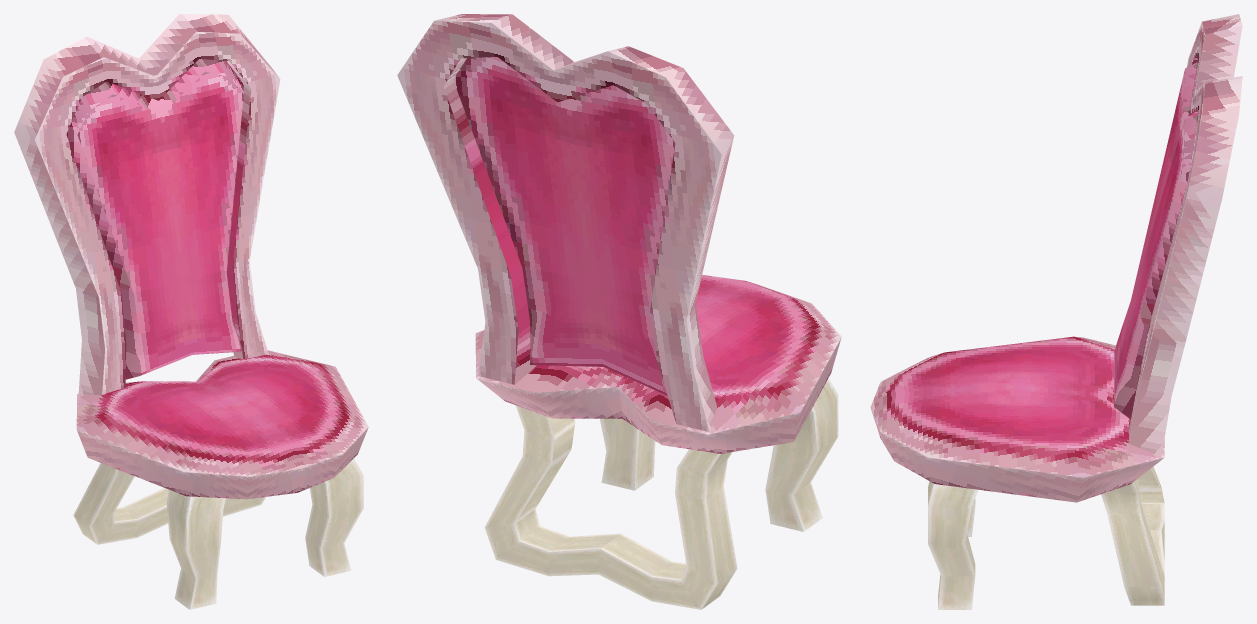
Rendered from isu24.glb.
3 views of the same model, side by side, from view 1: azimuth 30°, elevation 25°; view 2: azimuth 150°, elevation 25°; view 3: azimuth 270°, elevation 25° (orthographic). The views are drawn at different scales.
Visible parts, largest first — view 1: isu24; view 2: isu24; view 3: isu24.
Part boxes in pixels (x1,y1,x2,y2): isu24: [14, 14, 368, 609]; isu24: [397, 14, 841, 609]; isu24: [870, 14, 1242, 609].
Size of the model in its own units: 98 by 168 by 110.
2 materials, 2 textured.
